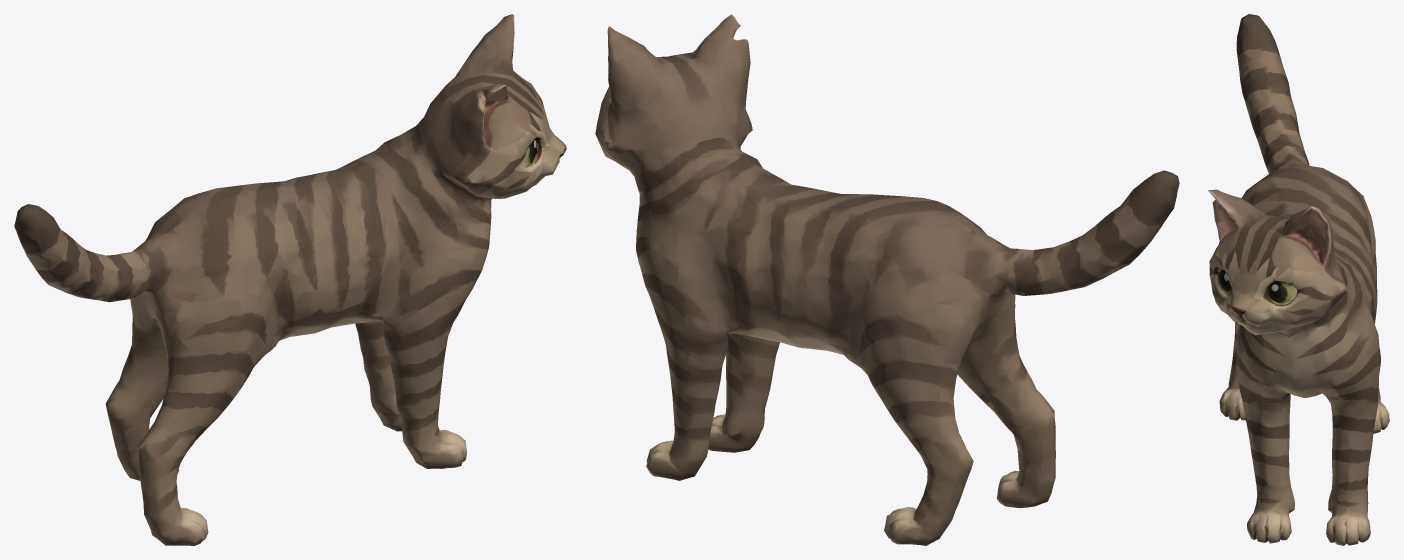
The model's file is COBBLEPAW.glb.
3 views of the same model, side by side, from view 1: azimuth 30°, elevation 25°; view 2: azimuth 150°, elevation 25°; view 3: azimuth 270°, elevation 25° (orthographic). The views are drawn at different scales.
Parts seen in each view (by area): view 1: tripo_node_63d047de-64e6-4669-bd33-42e8532b369a; view 2: tripo_node_63d047de-64e6-4669-bd33-42e8532b369a; view 3: tripo_node_63d047de-64e6-4669-bd33-42e8532b369a.
Part boxes in pixels (x1=…): tripo_node_63d047de-64e6-4669-bd33-42e8532b369a: x1=14, y1=14, x2=566, y2=545; tripo_node_63d047de-64e6-4669-bd33-42e8532b369a: x1=595, y1=14, x2=1179, y2=545; tripo_node_63d047de-64e6-4669-bd33-42e8532b369a: x1=1208, y1=14, x2=1389, y2=545.
Size of the model in its own units: 1.39 by 1 by 0.4421.
1 material, 1 textured.
